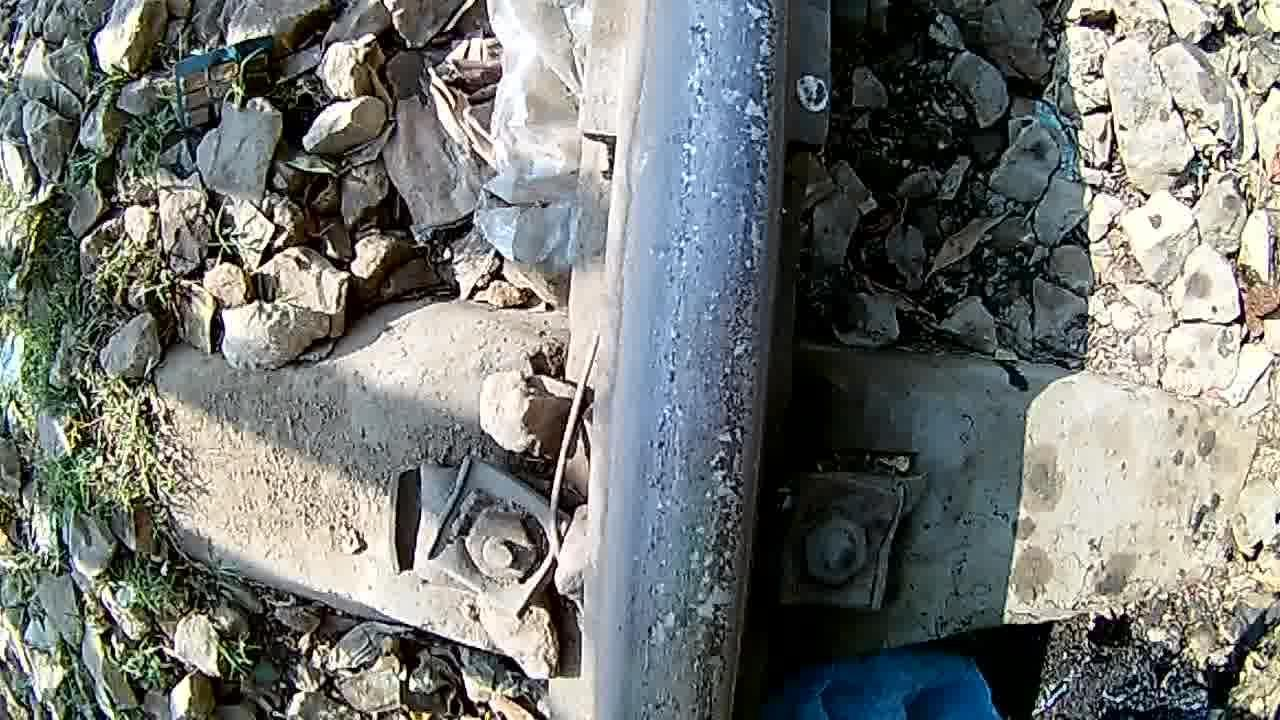crack: (614, 6, 792, 720)
